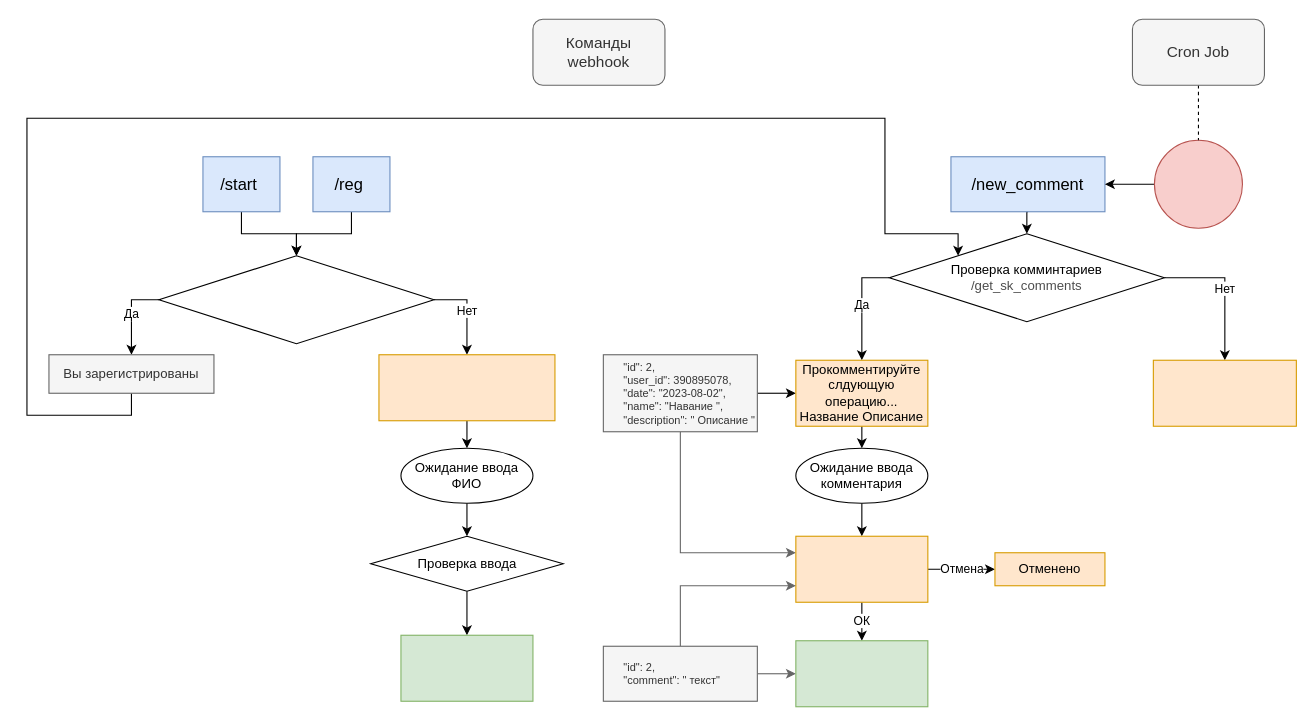
The diagram is 1316 pixels wide and 726 high, and some of its shapes have lost their labels. Here are the shapes that lost their labels. From the top down, the centre of each, then its label:
At point (1197, 183): "Проверка по расписанию".
At point (296, 299): "Проверка регистрации /get_user_id".
At point (466, 387): "Введите данные в формате Иванов И.И.".
At point (1224, 392): "Комментарии не найдены".
At point (861, 568): "Подтверждение ОК / Отмена".
At point (466, 667): "Отправка /user".
At point (861, 673): "Отправка /update_comment".
